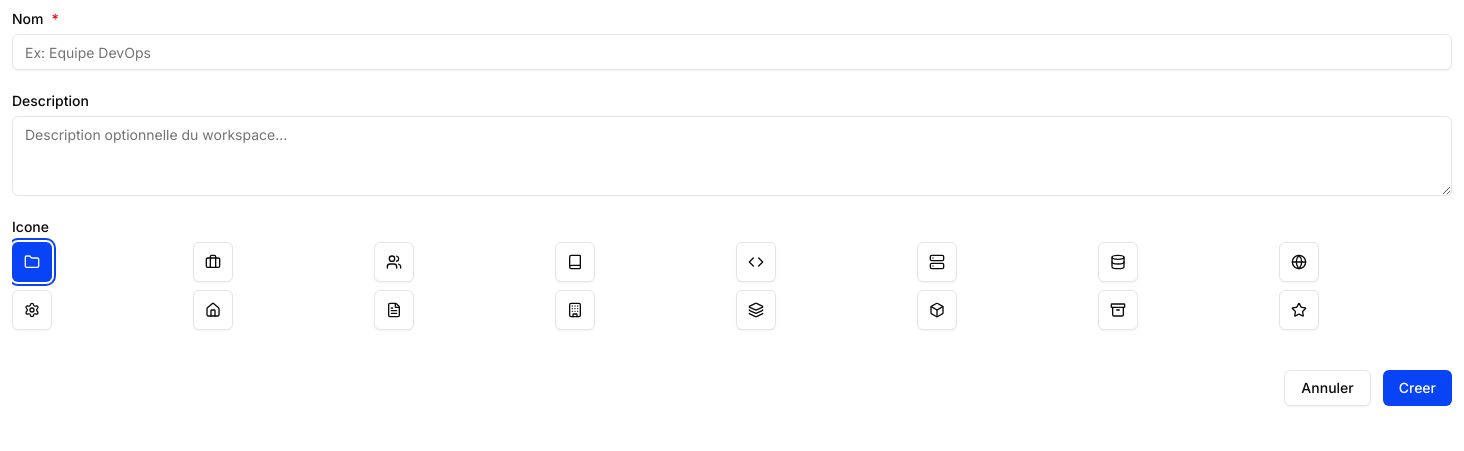
WorkspaceForm › shows validation error when name is empty
Click the button with test id "workspace-form-submit": (1417, 388) [1383,370,1452,406]
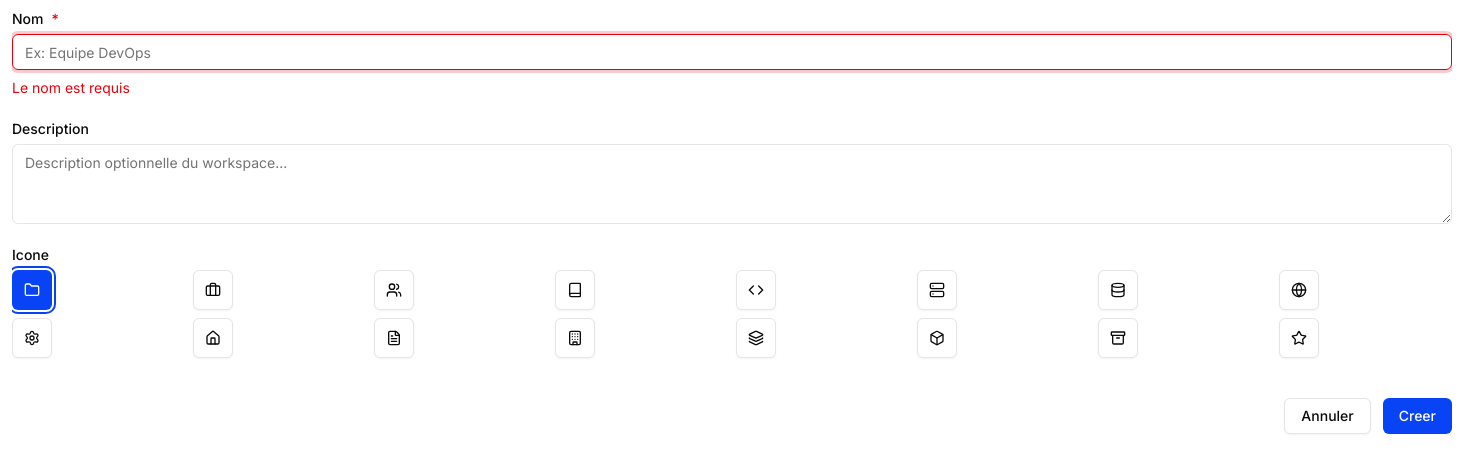
Now the text "Le nom est requis" is shown, box [12,79,130,96]
